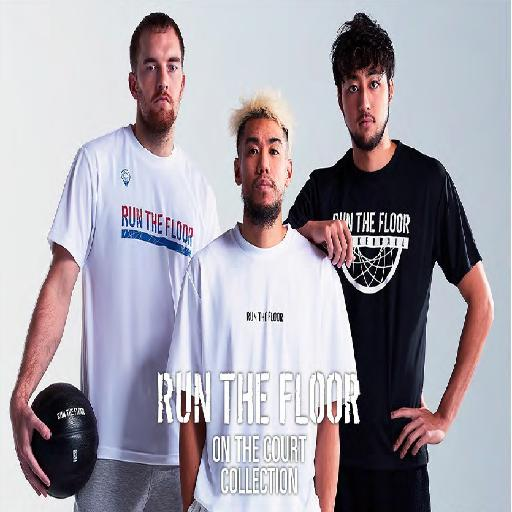ball: (23, 383, 100, 497)
